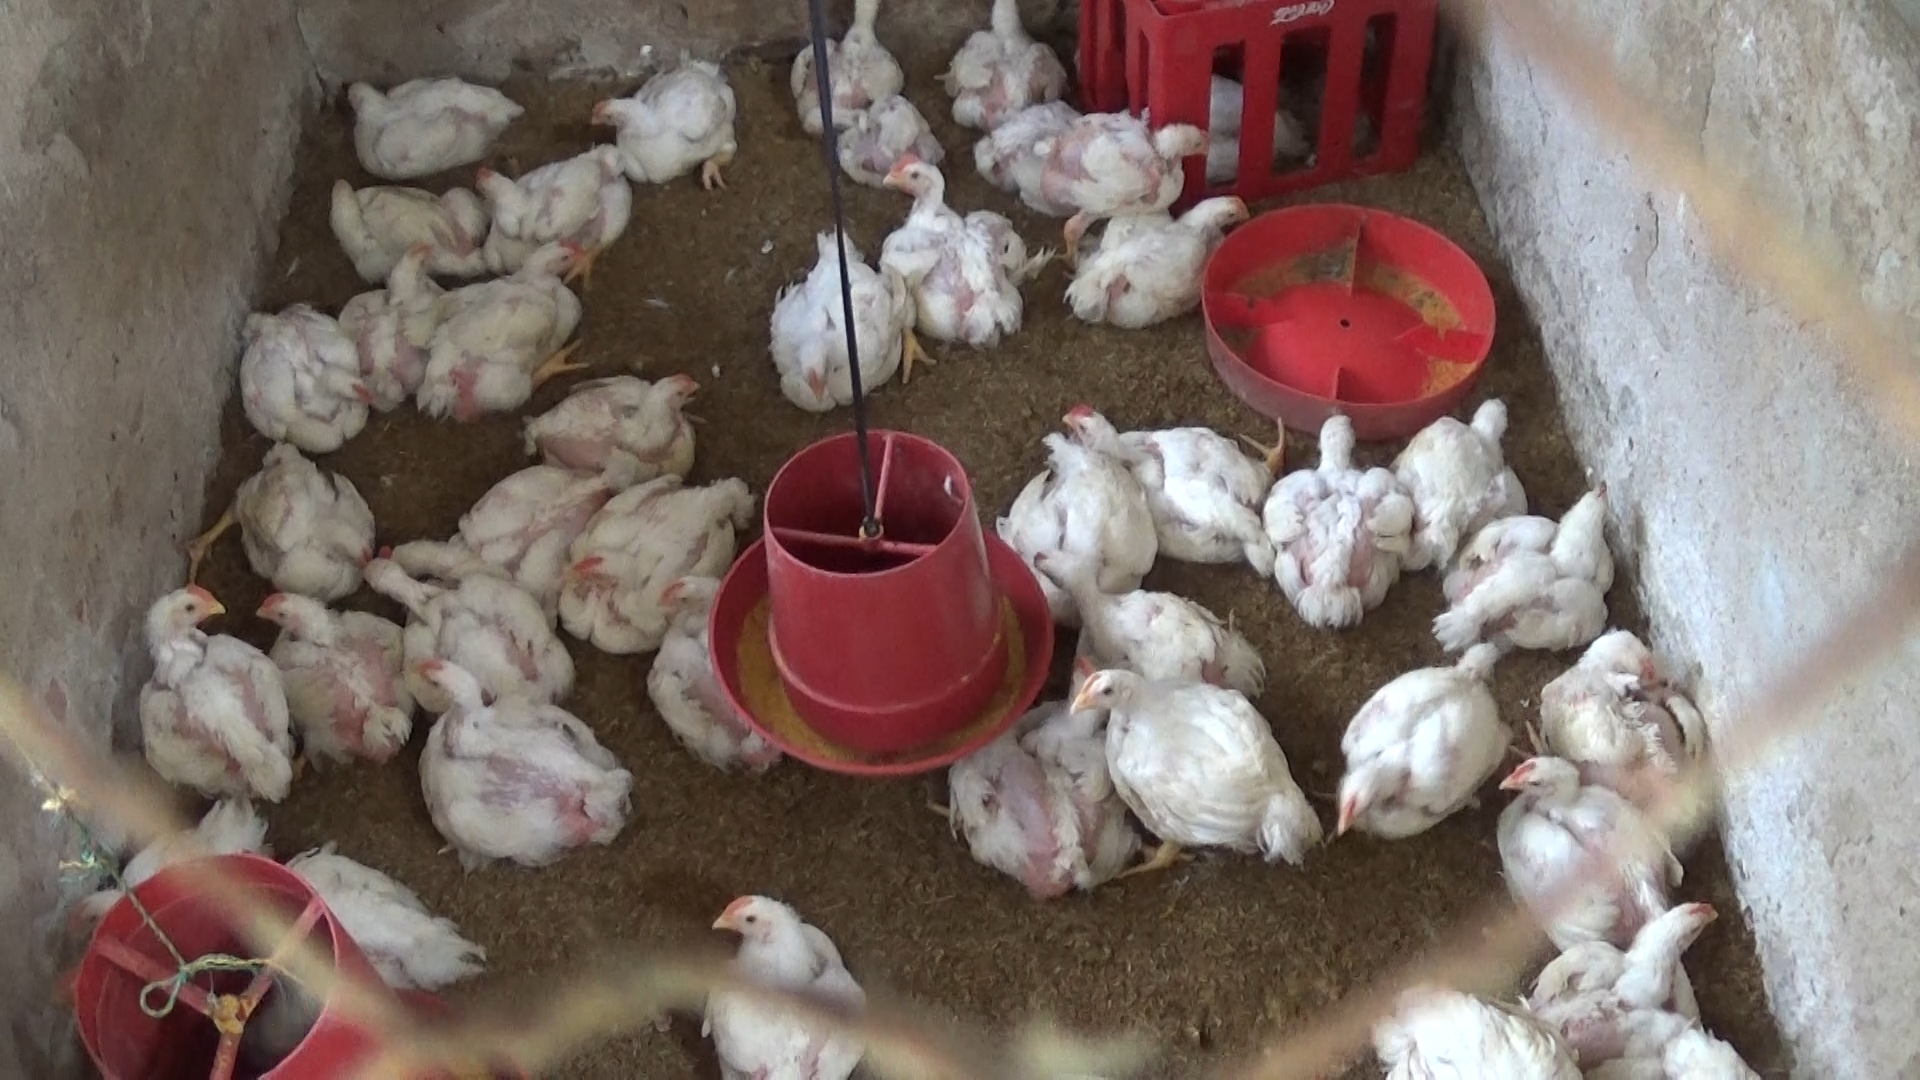Pollos: (1062, 640, 1320, 884), (392, 649, 644, 872), (916, 692, 1139, 907), (1472, 889, 1730, 1073), (1033, 529, 1286, 713), (111, 574, 309, 807), (1487, 752, 1695, 957), (1302, 636, 1499, 843), (1060, 386, 1282, 567), (407, 237, 621, 422), (347, 541, 574, 713), (688, 876, 877, 1080), (564, 454, 764, 644), (1422, 473, 1615, 667), (868, 152, 1046, 349), (1540, 632, 1712, 833), (245, 588, 422, 775), (634, 563, 789, 775), (182, 440, 382, 597), (761, 223, 924, 413), (1250, 413, 1406, 612), (1001, 429, 1176, 599), (985, 105, 1203, 241), (1076, 185, 1271, 324), (1395, 402, 1549, 572), (517, 353, 735, 472), (469, 156, 637, 301), (336, 51, 526, 173), (587, 51, 745, 191), (334, 232, 454, 413), (315, 169, 485, 291), (240, 305, 372, 456), (942, 0, 1073, 137), (795, 0, 915, 142)
